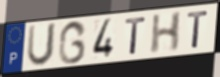4: (90, 17, 116, 61)
G: (56, 19, 88, 66)
H: (149, 10, 184, 56)
T: (186, 9, 210, 50), (124, 16, 148, 56)
U: (25, 21, 59, 68)
